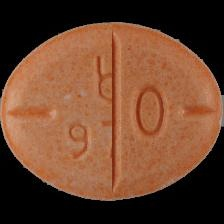63629-3731: (0, 0, 224, 224)
